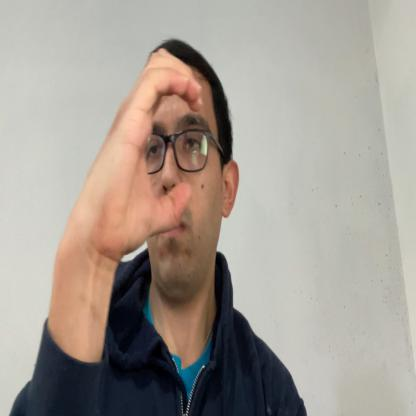C: (94, 46, 204, 240)
